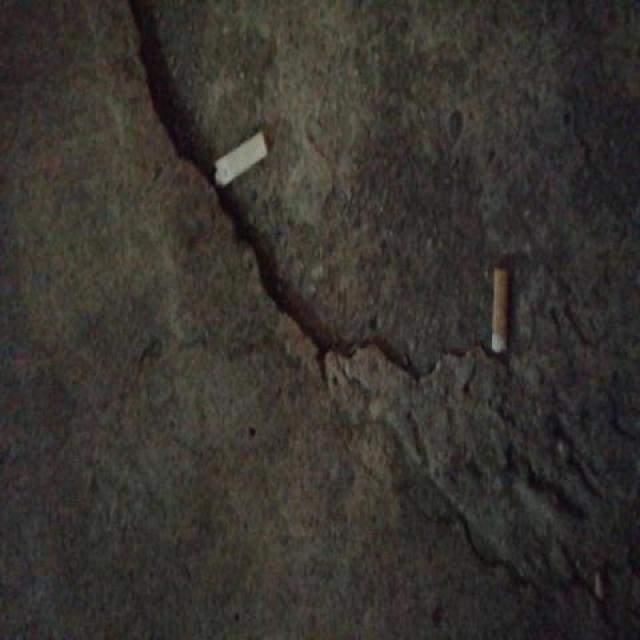non-organic waste: (210, 124, 270, 193), (488, 260, 513, 360)
